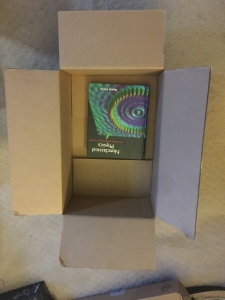innerbox: (59, 67, 157, 219)
outerbox: (9, 11, 202, 265)
product: (88, 83, 146, 157)
